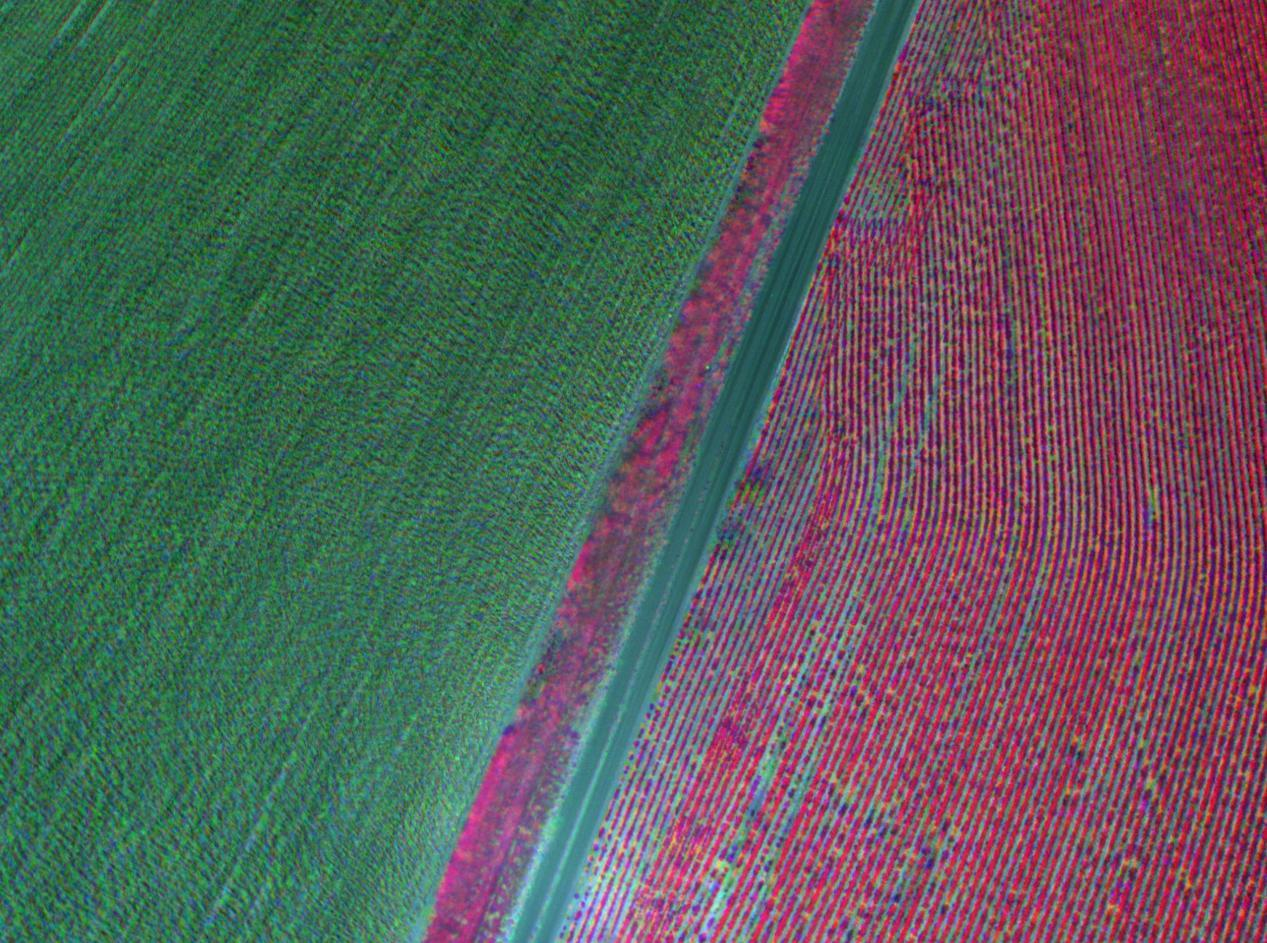dc: (726, 880, 731, 884), (765, 771, 769, 775), (767, 855, 771, 859), (720, 863, 724, 867)
